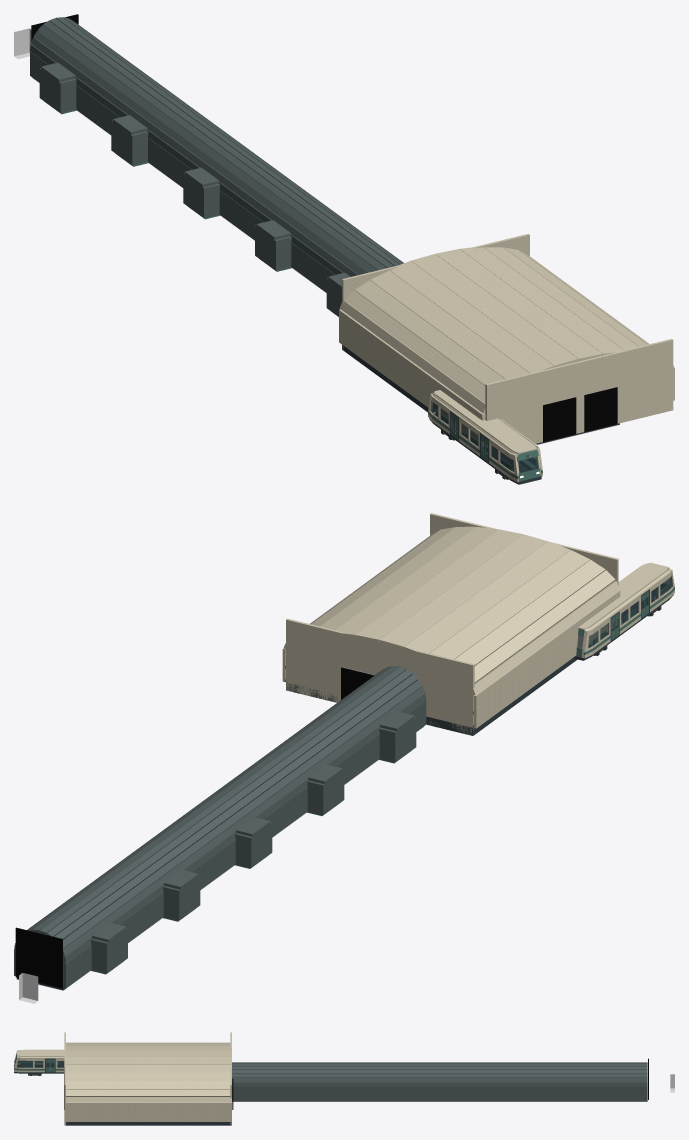
Rendered from metro_trains.glb.
3 renders of one model, top to bottom at view 1: azimuth 30°, elevation 25°; view 2: azimuth 150°, elevation 25°; view 3: azimuth 270°, elevation 25°, orthographic. The views are drawn at different scales.
Parts seen in each view (by area): view 1: kit_pilote_portail_sud_jambage_2, kit_pilote_portail_sud_jambage_0, kit_pilote_masque_sud_A, kit_pilote_masque_sud_B, kit_pilote_portail_sud_linteau_9.4, kit_pilote_portail_sud_linteau_5.4, kit_pilote_24_kit_mur_quai_4m_001, kit_pilote_31_kit_mur_quai_4m_001, kit_pilote_37_kit_mur_quai_4m_001, kit_pilote_17_kit_mur_quai_4m_001; view 2: kit_pilote_portail_nord_droit, kit_pilote_fond_station_gauche, kit_pilote_masque_tube_A, kit_pilote_portail_nord_linteau, kit_pilote_37_kit_mur_quai_4m_001, kit_pilote_31_kit_mur_quai_4m_001, kit_pilote_17_kit_mur_quai_4m_001, kit_pilote_24_kit_mur_quai_4m_001; view 3: kit_pilote_11_kit_mur_quai_4m_001, kit_pilote_32_kit_mur_quai_4m_001, kit_pilote_4_kit_mur_quai_4m_001, kit_pilote_18_kit_mur_quai_4m_001, kit_pilote_25_kit_mur_quai_4m_001, kit_pilote_38_kit_mur_quai_4m_001, nav_voie_A_tube.
Boxes of the visible parts, <box> form: kit_pilote_portail_sud_jambage_2: <box>616,339,673,423</box>; kit_pilote_portail_sud_jambage_0: <box>485,370,542,447</box>; kit_pilote_masque_sud_A: <box>543,397,576,442</box>; kit_pilote_masque_sud_B: <box>584,387,617,431</box>; kit_pilote_portail_sud_linteau_9.4: <box>583,352,617,394</box>; kit_pilote_portail_sud_linteau_5.4: <box>541,362,575,404</box>; kit_pilote_24_kit_mur_quai_4m_001: <box>386,344,411,394</box>; kit_pilote_31_kit_mur_quai_4m_001: <box>362,327,387,376</box>; kit_pilote_37_kit_mur_quai_4m_001: <box>339,309,364,359</box>; kit_pilote_17_kit_mur_quai_4m_001: <box>410,362,435,407</box>; kit_pilote_portail_nord_droit: <box>286,618,343,702</box>; kit_pilote_fond_station_gauche: <box>423,652,474,735</box>; kit_pilote_masque_tube_A: <box>15,927,62,988</box>; kit_pilote_portail_nord_linteau: <box>342,633,376,674</box>; kit_pilote_37_kit_mur_quai_4m_001: <box>473,678,500,728</box>; kit_pilote_31_kit_mur_quai_4m_001: <box>499,660,524,710</box>; kit_pilote_17_kit_mur_quai_4m_001: <box>547,625,572,675</box>; kit_pilote_24_kit_mur_quai_4m_001: <box>523,643,548,692</box>; kit_pilote_11_kit_mur_quai_4m_001: <box>93,1102,121,1121</box>; kit_pilote_32_kit_mur_quai_4m_001: <box>176,1102,204,1121</box>; kit_pilote_4_kit_mur_quai_4m_001: <box>66,1102,93,1121</box>; kit_pilote_18_kit_mur_quai_4m_001: <box>121,1102,148,1121</box>; kit_pilote_25_kit_mur_quai_4m_001: <box>149,1102,176,1121</box>; kit_pilote_38_kit_mur_quai_4m_001: <box>204,1102,231,1121</box>; nav_voie_A_tube: <box>233,1101,647,1101</box>.
Bounding box in the file's own units: 19.7 × 7.05 × 95.45.
11 materials, 4 textured.
